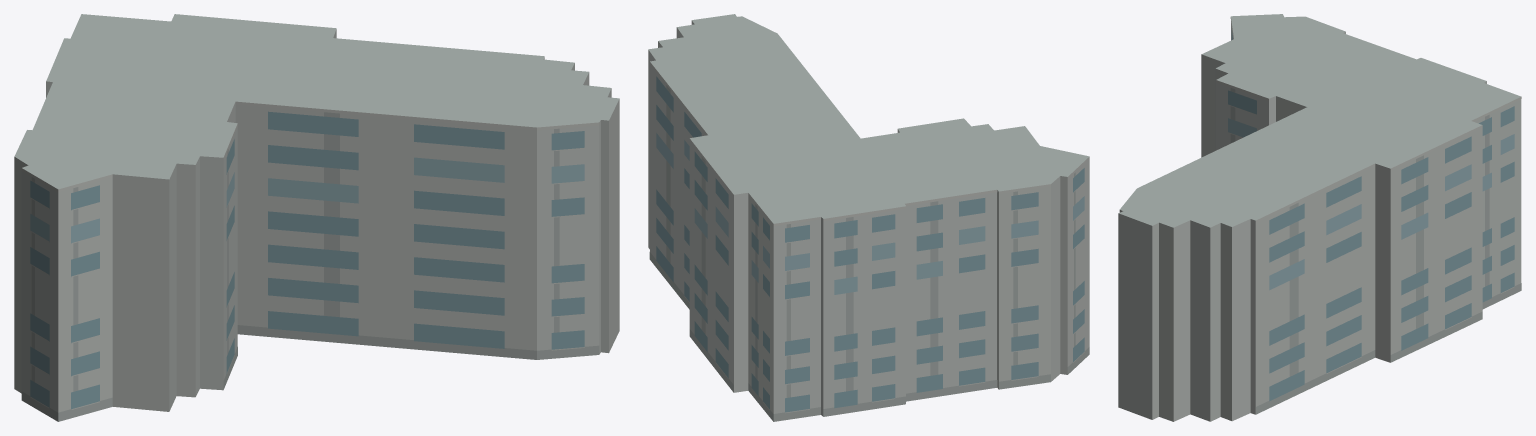
The model's file is survey-upis-32705867.glb.
3 renders of one model, left to right at view 1: azimuth 30°, elevation 25°; view 2: azimuth 150°, elevation 25°; view 3: azimuth 270°, elevation 25°, orthographic. The views are drawn at different scales.
Parts seen in each view (by area): view 1: survey-upis-32705867.tmp; view 2: survey-upis-32705867.tmp; view 3: survey-upis-32705867.tmp.
Boxes of the visible parts, left/top/right/bottom form: survey-upis-32705867.tmp: left=14, top=14, right=619, bottom=421; survey-upis-32705867.tmp: left=648, top=14, right=1089, bottom=421; survey-upis-32705867.tmp: left=1118, top=14, right=1521, bottom=421.
Size of the model in its own units: 44.62 by 18.9 by 35.55.
